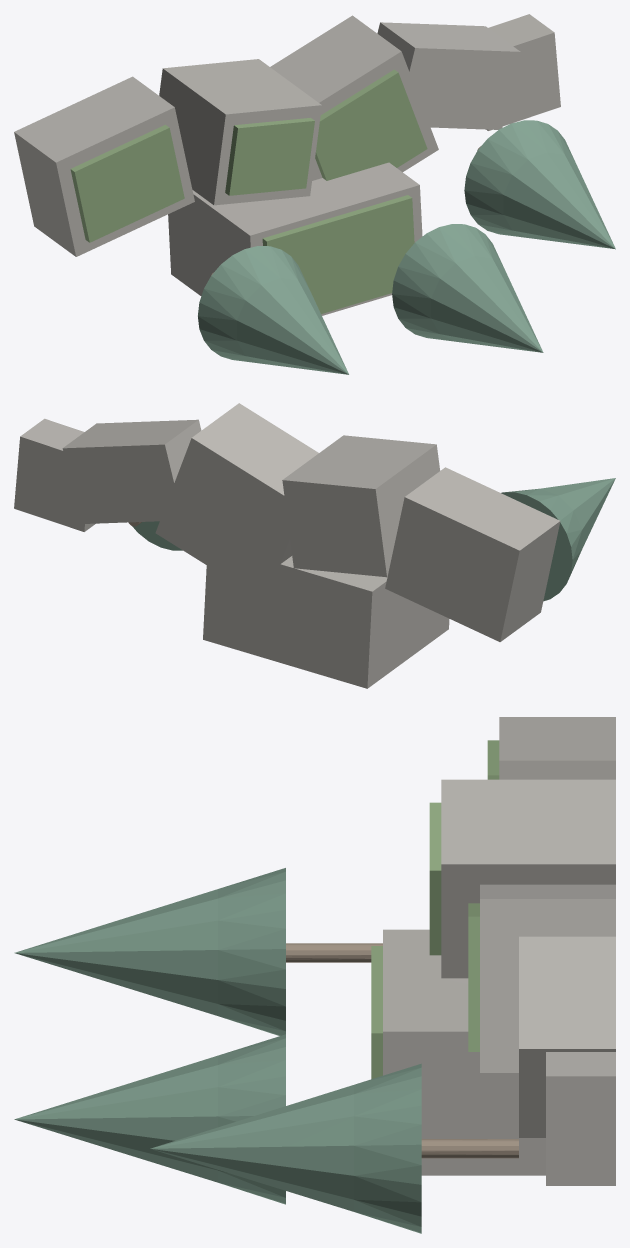
Rendered from r-11-prygl-rocky-wooded-shore.glb.
3 views of the same model, one above another, from view 1: azimuth 30°, elevation 25°; view 2: azimuth 150°, elevation 25°; view 3: azimuth 270°, elevation 25° (orthographic). The views are drawn at different scales.
Visible parts, largest first — view 1: rocks, pine-foliage, moss-caps; view 2: rocks, pine-foliage; view 3: rocks, pine-foliage, moss-caps, pine-trunks.
Boxes of the visible parts, x1=… form: rocks: x1=14, y1=14, x2=560, y2=315; pine-foliage: x1=198, y1=120, x2=615, y2=374; moss-caps: x1=70, y1=69, x2=427, y2=314; rocks: x1=14, y1=403, x2=560, y2=688; pine-foliage: x1=132, y1=478, x2=615, y2=601; rocks: x1=383, y1=717, x2=615, y2=1185; pine-foliage: x1=14, y1=868, x2=421, y2=1233; moss-caps: x1=371, y1=740, x2=499, y2=1079; pine-trunks: x1=286, y1=943, x2=518, y2=1158.
Size of the model in its own units: 21486 by 8953 by 15500.
